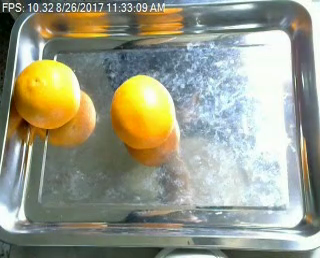Orange: (111, 75, 175, 150), (14, 58, 81, 129)
